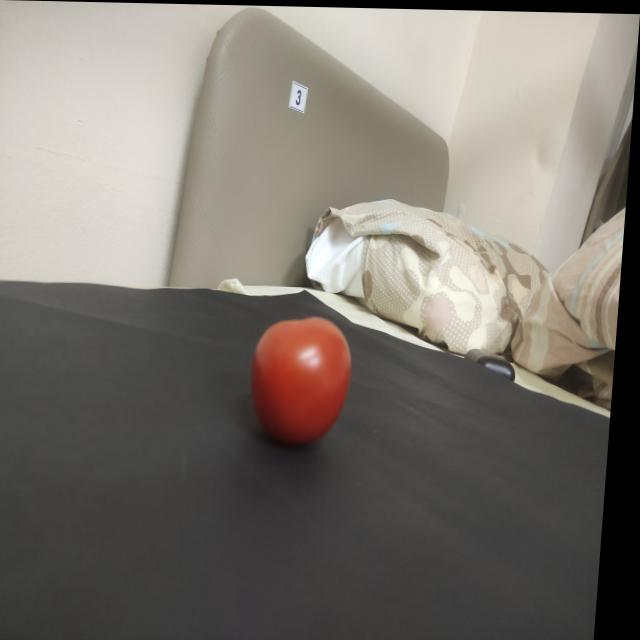kirmizi: (234, 285, 375, 457)
